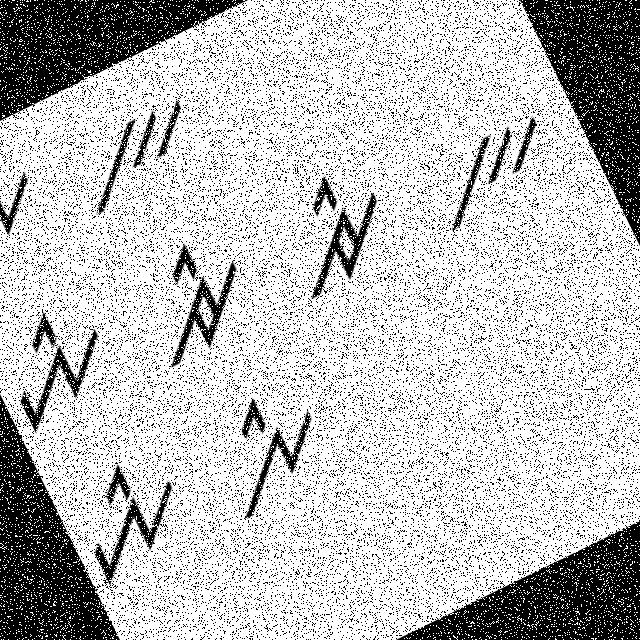li: (188, 365, 360, 533), (0, 129, 71, 289)
ri: (113, 224, 272, 380), (262, 156, 415, 314)
yi: (54, 434, 206, 594), (0, 286, 133, 437)
